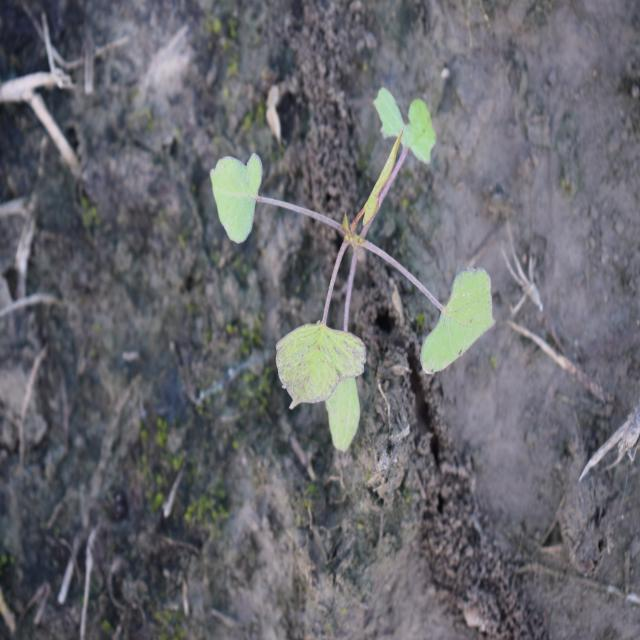MorningGlory: (208, 84, 498, 456)
